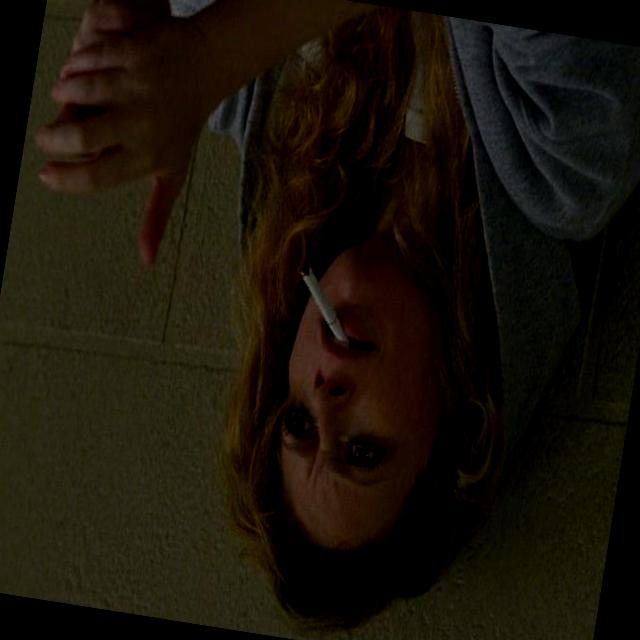smoke: (264, 242, 385, 376)
